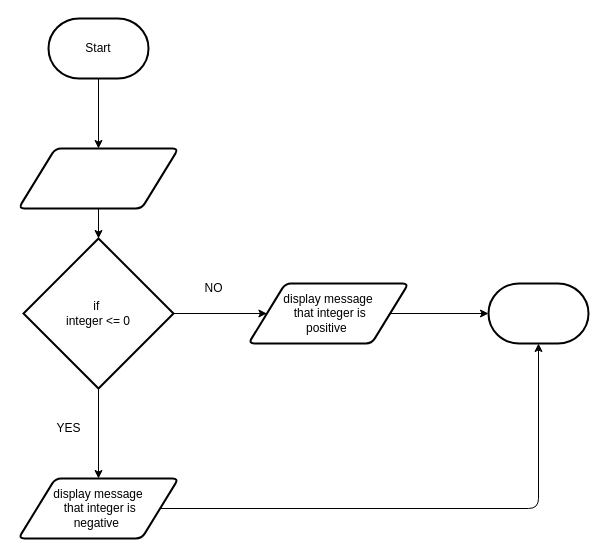
Image size: 606x556. Some labels were removed from this diagram. The centre of each missing label's shape, as x and y in pixels:
"Stop" goes at pixel 538 313.
"user enters integer" goes at pixel 98 178.
